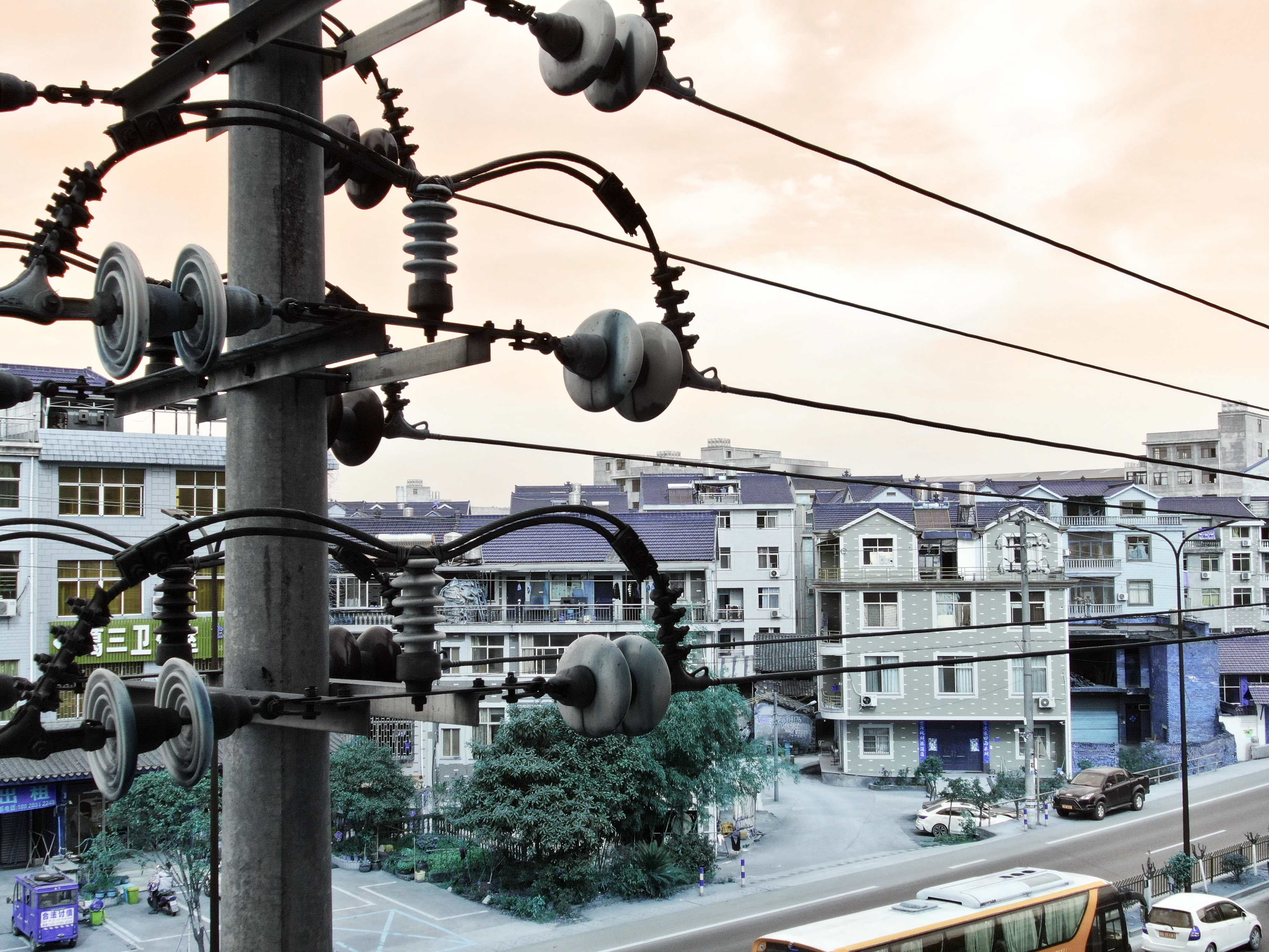severe_soiling_no_discharge_whole: (74, 642, 263, 810), (83, 228, 273, 389), (549, 305, 685, 423), (526, 2, 662, 118), (543, 626, 675, 745), (383, 552, 449, 694)
